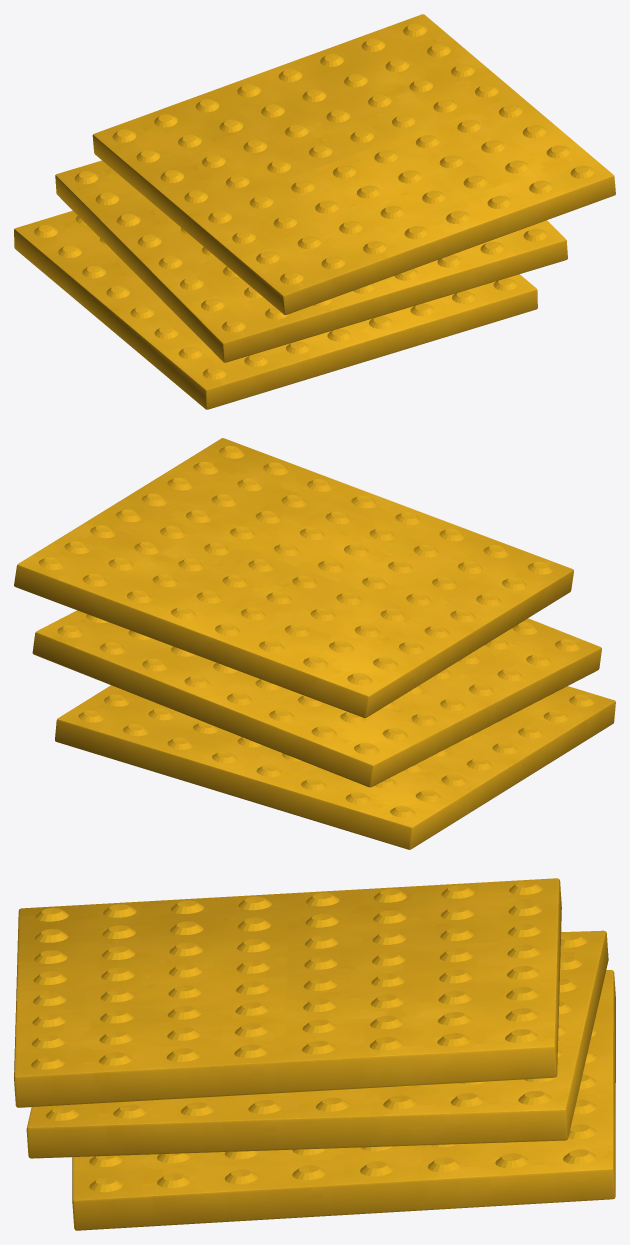
File: PIS-TAT-001_anim.glb
The picture shows the model from 3 angles, top to bottom: view 1: azimuth 30°, elevation 25°; view 2: azimuth 150°, elevation 25°; view 3: azimuth 270°, elevation 25°; orthographic projection. The views are drawn at different scales.
Visible parts, largest first — view 1: PIS-TAT-001_anim2, PIS-TAT-001_anim1, PIS-TAT-001_anim0; view 2: PIS-TAT-001_anim2, PIS-TAT-001_anim1, PIS-TAT-001_anim0; view 3: PIS-TAT-001_anim2, PIS-TAT-001_anim0, PIS-TAT-001_anim1.
Part boxes in pixels (box(x1,y1,x2,y2)): PIS-TAT-001_anim2: box(92, 14, 615, 314); PIS-TAT-001_anim1: box(55, 160, 567, 362); PIS-TAT-001_anim0: box(14, 210, 537, 409); PIS-TAT-001_anim2: box(14, 438, 573, 717); PIS-TAT-001_anim1: box(32, 610, 601, 787); PIS-TAT-001_anim0: box(55, 685, 615, 849); PIS-TAT-001_anim2: box(14, 878, 561, 1107); PIS-TAT-001_anim0: box(72, 970, 615, 1230); PIS-TAT-001_anim1: box(26, 930, 608, 1158).
Bounding box in the file's own units: 0.4712 × 0.2058 × 0.4439.
Materials: 1 (1 with a texture image).
